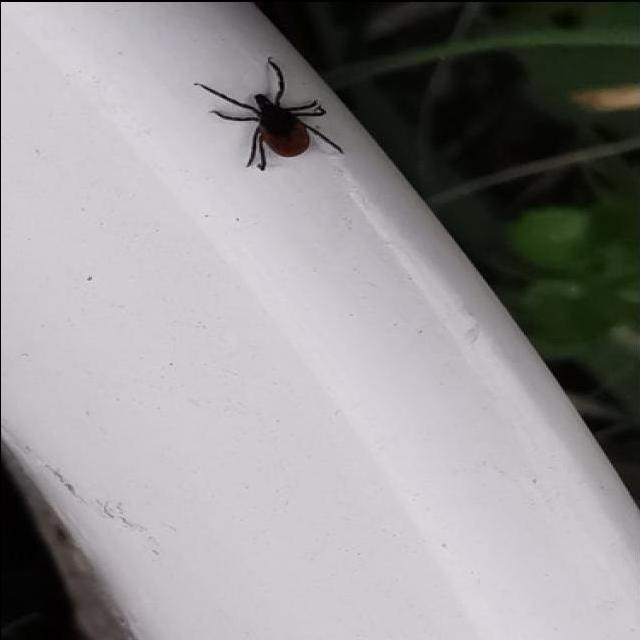Ixodes Ricinus-F: (195, 55, 345, 169)
